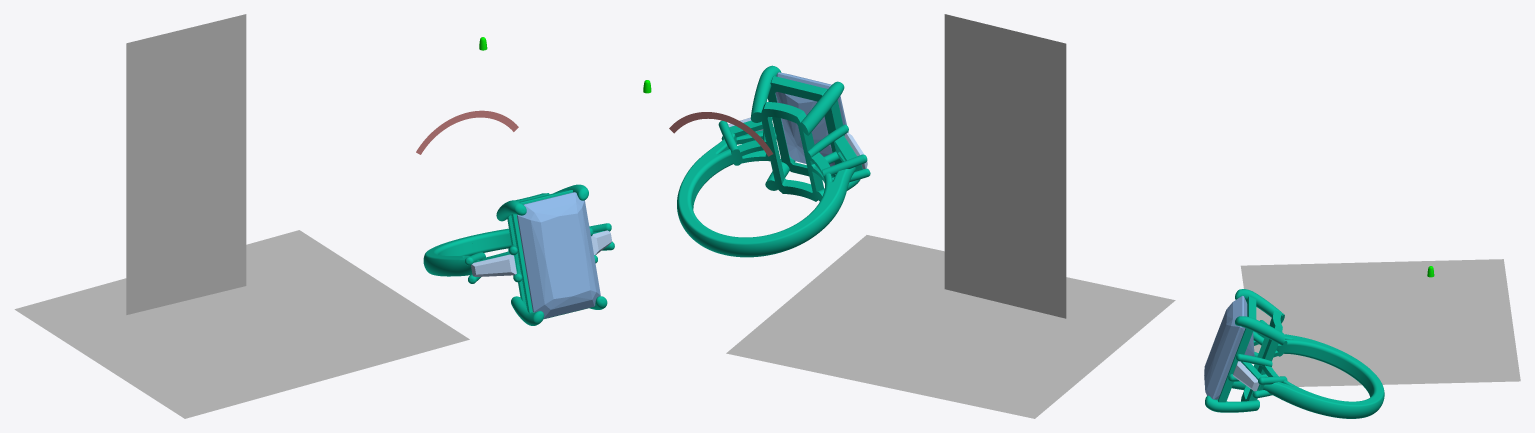
3 renders of one model, left to right at view 1: azimuth 30°, elevation 25°; view 2: azimuth 150°, elevation 25°; view 3: azimuth 270°, elevation 25°, orthographic. The views are drawn at different scales.
Visible parts, largest first — view 1: VR826(BASE).3dm, Diamond_Radiant, Bezel, Custom_Baguette_v1.0_Length5.500000_BottomWidth1.700000_TopW; view 2: VR826(BASE).3dm, Bezel (×2), Diamond_Radiant, Head Prong (×2); view 3: VR826(BASE).3dm, Diamond_Radiant, Head Prong (×3), Bezel, Custom_Baguette_v1.0_Length5.500000_BottomWidth1.700000_TopW.
Part boxes in pixels (x1,y1,x2,y2): VR826(BASE).3dm: [14, 14, 595, 418]; Diamond_Radiant: [517, 192, 600, 318]; Bezel: [511, 190, 591, 319]; Custom_Baguette_v1.0_Length5.500000_BottomWidth1.700000_TopW: [471, 254, 516, 276]; VR826(BASE).3dm: [643, 14, 1175, 418]; Bezel (×2): [737, 76, 844, 176]; Diamond_Radiant: [775, 72, 848, 166]; Head Prong (×2): [750, 65, 844, 135]; VR826(BASE).3dm: [1240, 259, 1520, 418]; Diamond_Radiant: [1204, 296, 1254, 399]; Head Prong (×3): [1205, 289, 1284, 412]; Bezel: [1217, 296, 1256, 402]; Custom_Baguette_v1.0_Length5.500000_BottomWidth1.700000_TopW: [1232, 361, 1259, 391].
Bounding box in the file's own units: 6.97 × 4.52 × 4.95.
